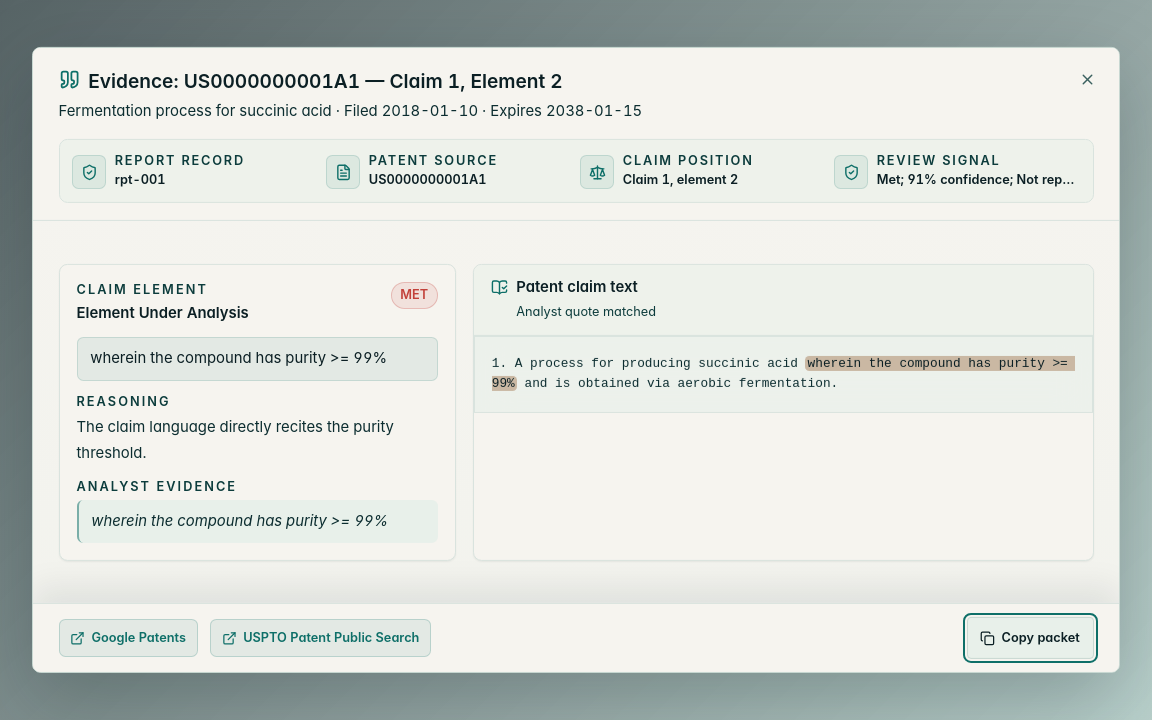
it: EvidenceDrilldown › copies an audit-grade evidence citation packet
Step 1. Click the button with test id "evidence-drilldown-copy" → point(1030, 638), box [967,617,1094,659]
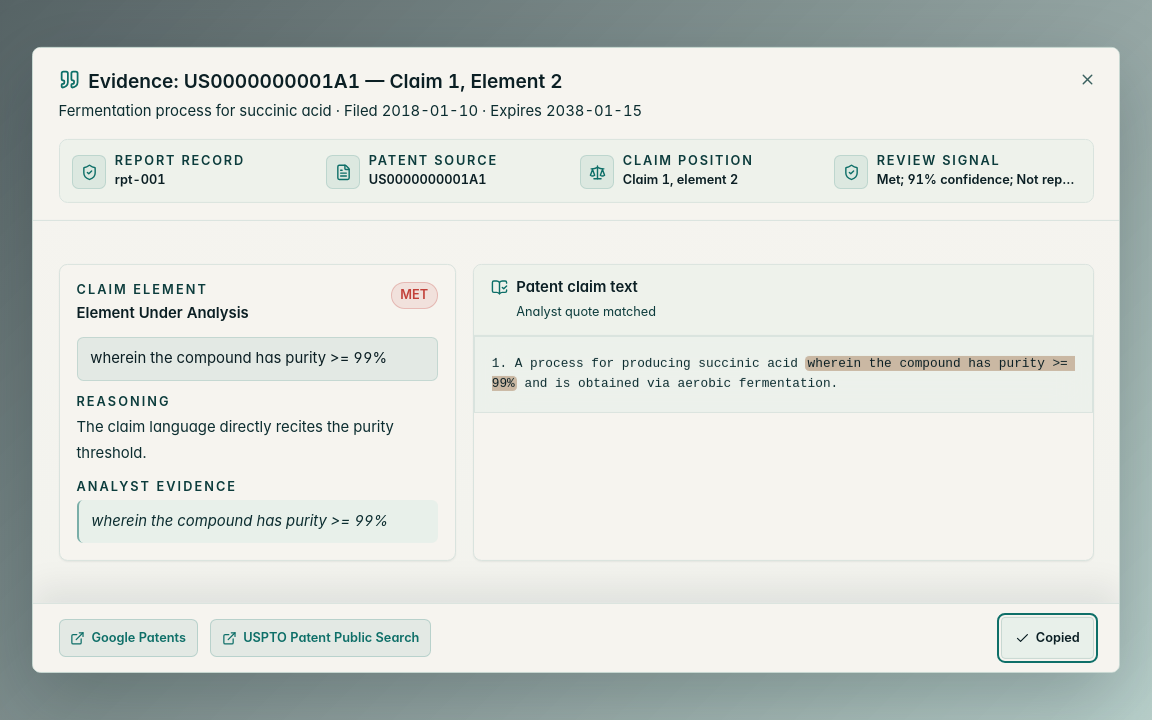
Now the button "Copied" is shown, box [1001,617,1094,659]
